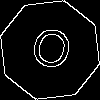O: (25, 25, 76, 80)
